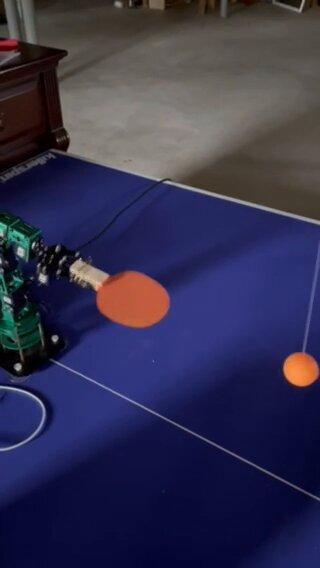oball: (285, 352, 318, 386)
